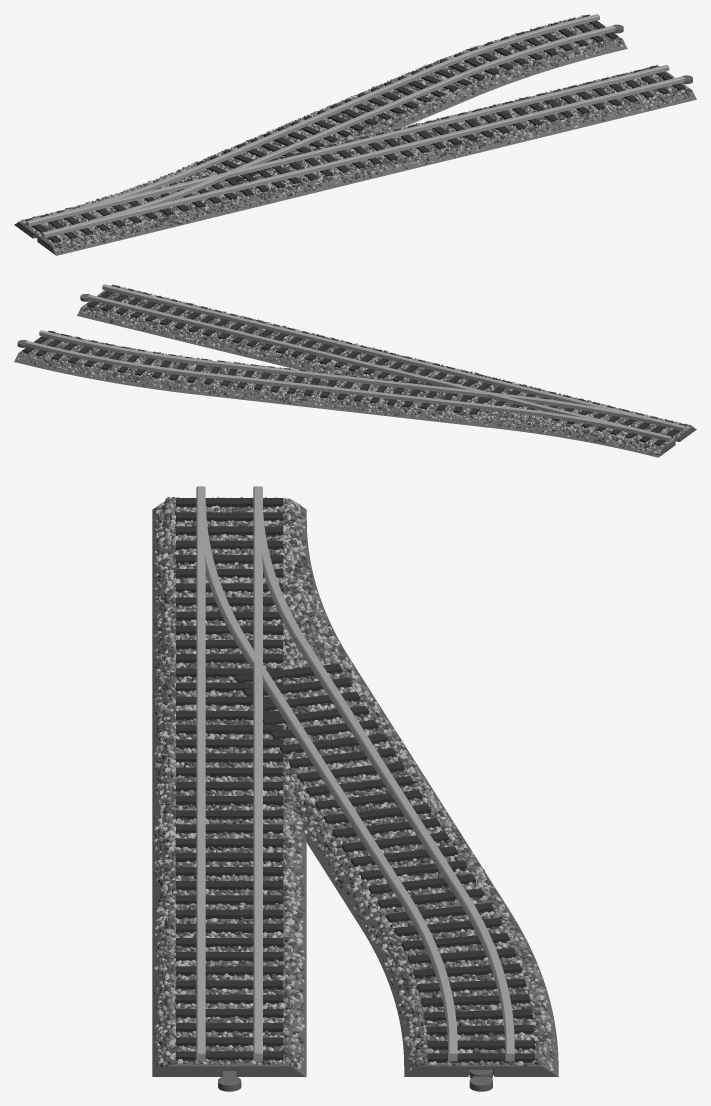
The model's file is Rail_Siding_Left_075.obj.
3 renders of one model, top to bottom at view 1: azimuth 30°, elevation 25°; view 2: azimuth 150°, elevation 25°; view 3: azimuth 270°, elevation 25°, orthographic. The views are drawn at different scales.
Visible parts, largest first — view 1: Rail_Siding_Left_075; view 2: Rail_Siding_Left_075; view 3: Rail_Siding_Left_075.
Part boxes in pixels (bbox=[...]): Rail_Siding_Left_075: bbox=[14, 14, 696, 255]; Rail_Siding_Left_075: bbox=[14, 284, 696, 457]; Rail_Siding_Left_075: bbox=[152, 486, 558, 1091].
Bounding box in the file's own units: 4.1 × 0.0821 × 1.21.
1 material, 1 textured.
